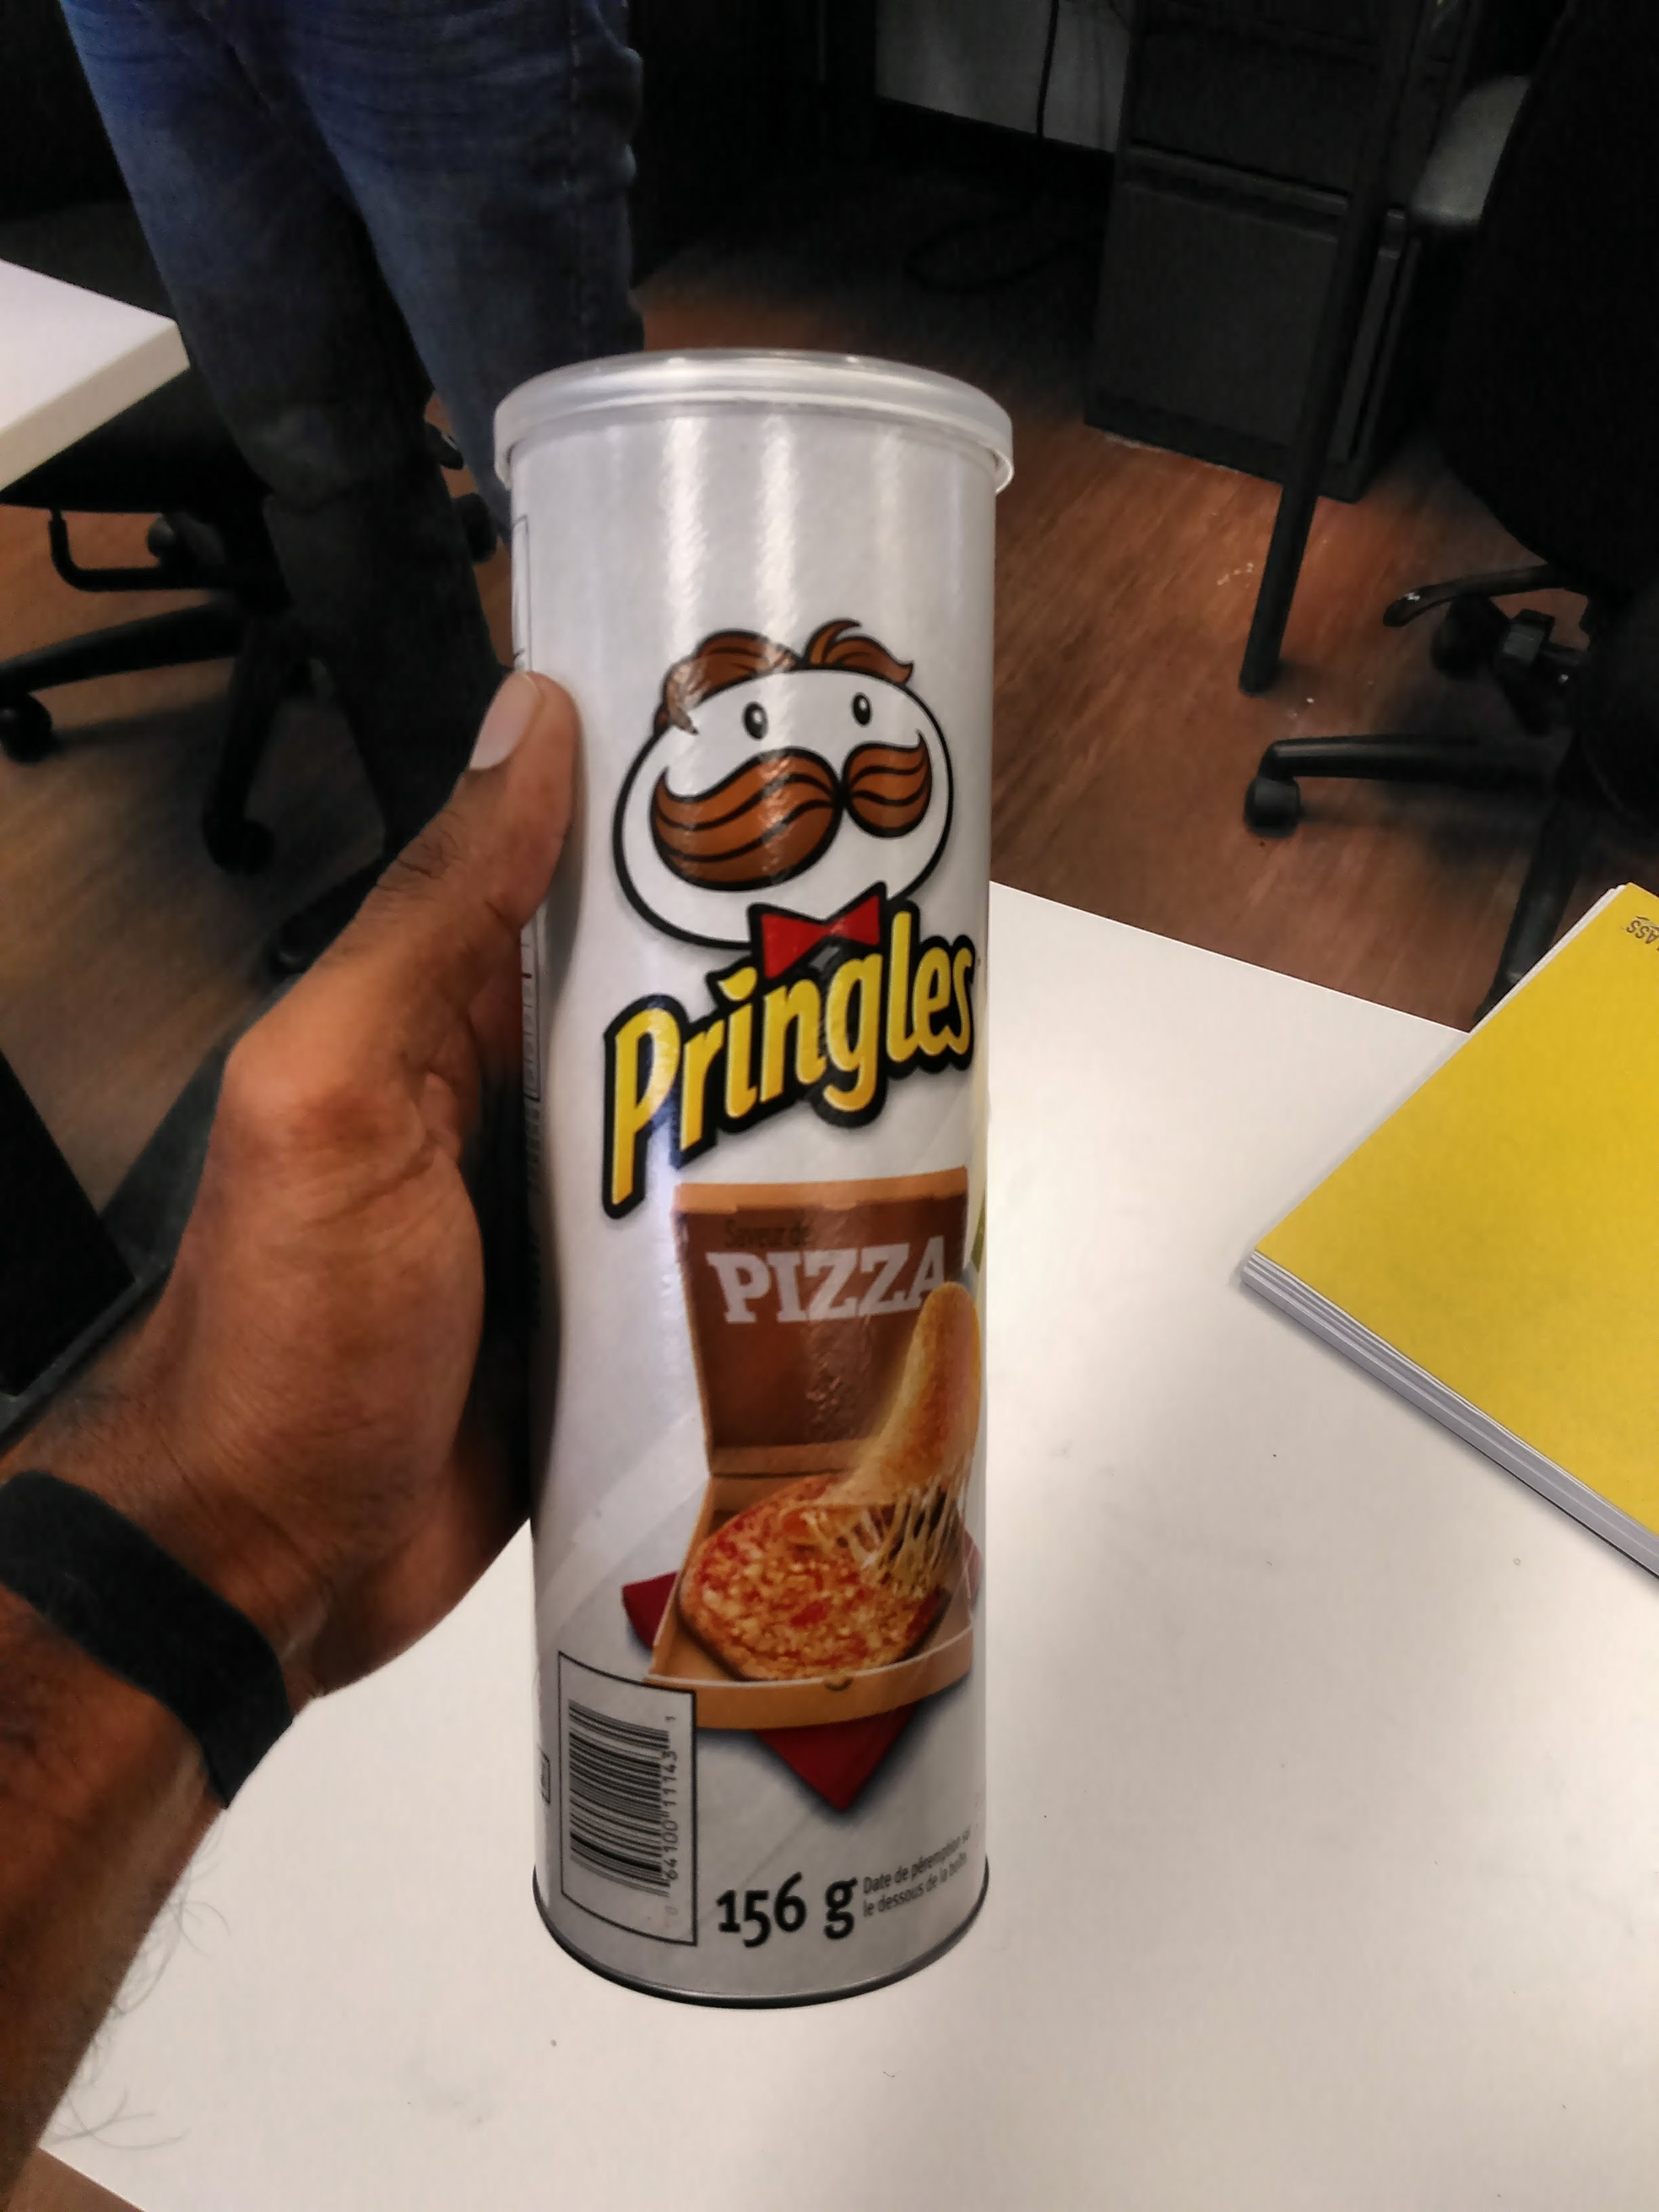pringles: (423, 361, 1037, 2027)
